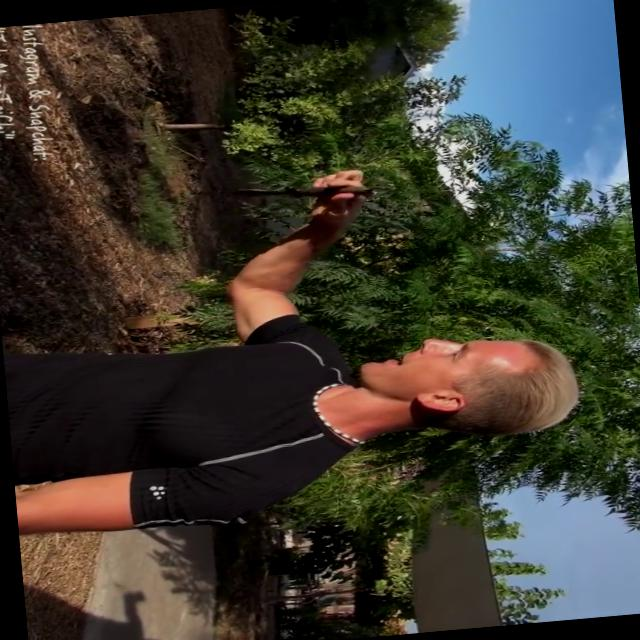knife: (233, 170, 384, 213)
